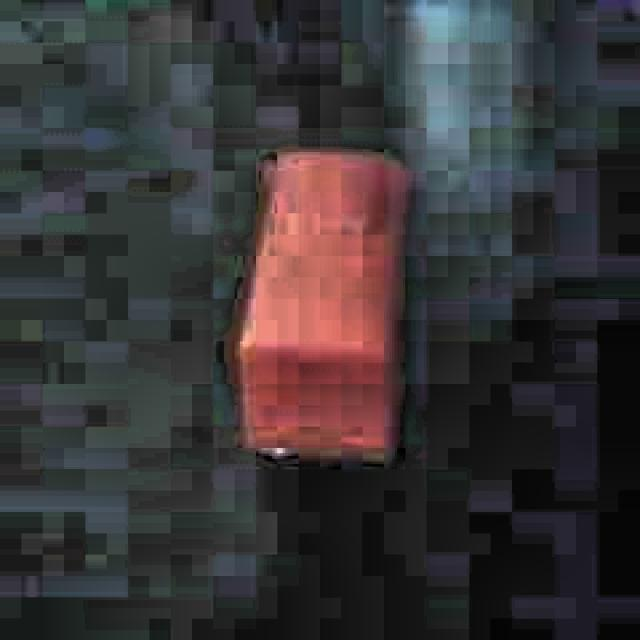bus: (223, 138, 420, 474)
